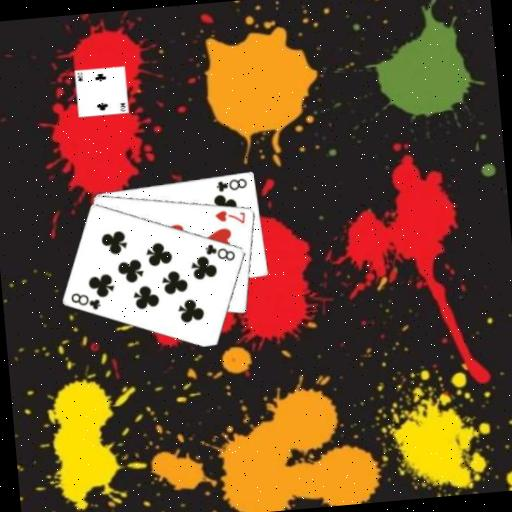7H: (212, 206, 248, 227)
8C: (202, 238, 237, 264), (68, 287, 103, 313), (213, 175, 249, 193)
